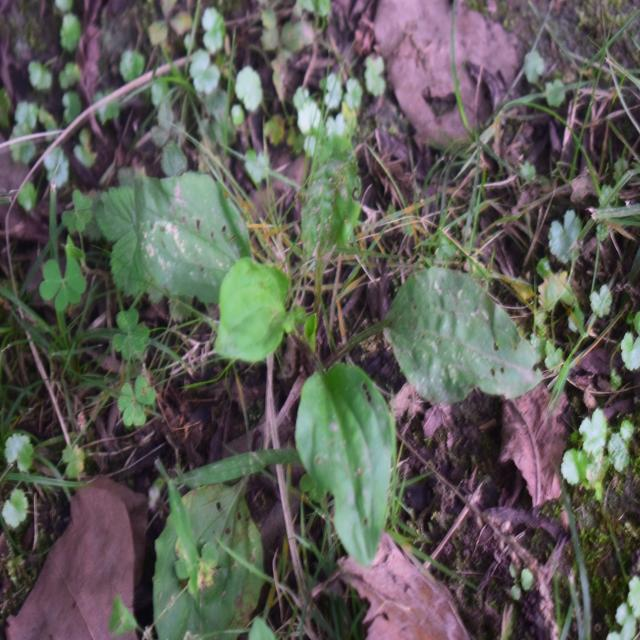plantain: (114, 169, 514, 524)
